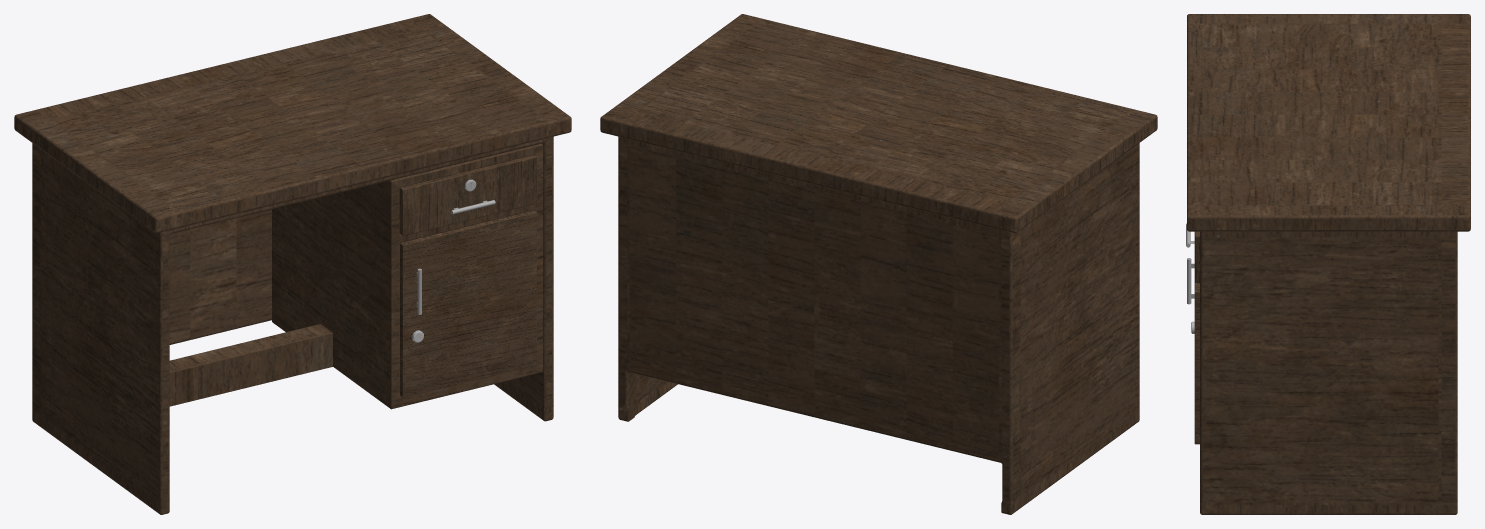
File: MejaGuru.fbx
The picture shows the model from 3 angles, left to right: view 1: azimuth 30°, elevation 25°; view 2: azimuth 150°, elevation 25°; view 3: azimuth 270°, elevation 25°; orthographic projection.
Visible parts, largest first — view 1: MCube, Cylinder.001, Cylinder; view 2: MCube; view 3: MCube, Cylinder.001, Cylinder.
Boxes of the visible parts, x1,y1,x2,y2 form: MCube: (14, 14, 571, 514); Cylinder.001: (400, 210, 536, 397); Cylinder: (399, 155, 536, 235); MCube: (600, 14, 1157, 514); MCube: (1187, 14, 1470, 514); Cylinder.001: (1187, 258, 1199, 444); Cylinder: (1186, 223, 1199, 282).
Bounding box in the file's own units: 110 × 77.03 × 65.18.
